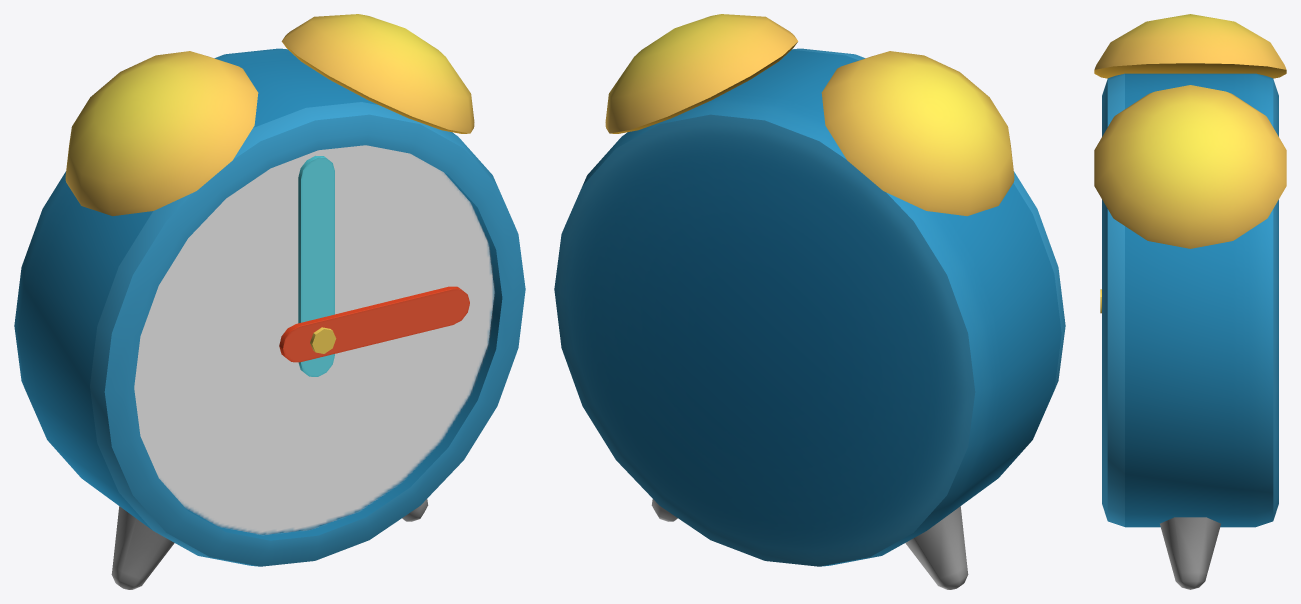
Rendered from clock.FBX.
3 views of the same model, side by side, from view 1: azimuth 30°, elevation 25°; view 2: azimuth 150°, elevation 25°; view 3: azimuth 270°, elevation 25° (orthographic). The views are drawn at different scales.
Visible parts, largest first — view 1: clock; view 2: clock; view 3: clock.
Boxes of the visible parts, x1,y1,x2,y2 form: clock: (14,14,525,589); clock: (554,14,1065,589); clock: (1094,14,1286,589).
Bounding box in the file's own units: 27.93 × 31.4 × 11.77.
